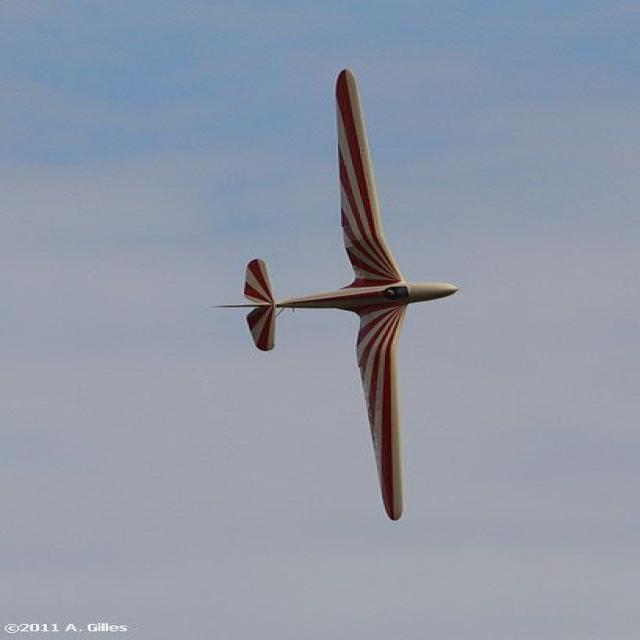iha: (220, 71, 459, 519)
